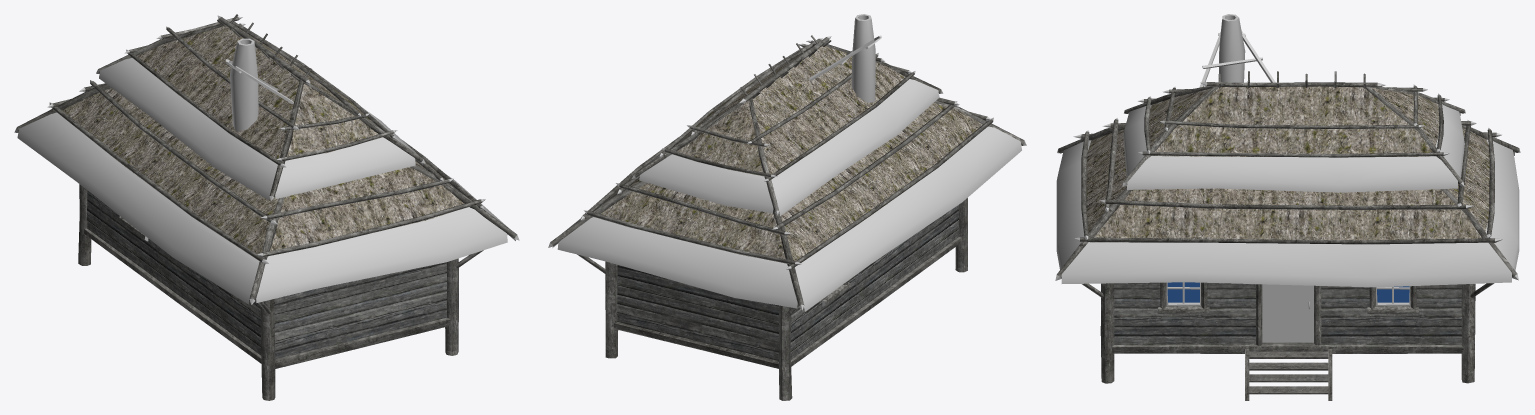
The model's file is mw_type_3_cottage_01.FBX.
3 views of the same model, side by side, from view 1: azimuth 30°, elevation 25°; view 2: azimuth 150°, elevation 25°; view 3: azimuth 270°, elevation 25° (orthographic). The views are drawn at different scales.
Parts seen in each view (by area): view 1: mw_type_3_cottage_01_roof, mw_type_3_cottage_01_wood, mw_type_3_cottage_01; view 2: mw_type_3_cottage_01_roof, mw_type_3_cottage_01_wood, mw_type_3_cottage_01; view 3: mw_type_3_cottage_01_roof, mw_type_3_cottage_01_wood, mw_type_3_cottage_01.
Boxes of the visible parts, left/top/right/bottom form: mw_type_3_cottage_01_roof: left=17, top=26, right=515, bottom=304; mw_type_3_cottage_01_wood: left=14, top=14, right=519, bottom=400; mw_type_3_cottage_01: left=229, top=38, right=258, bottom=131; mw_type_3_cottage_01_roof: left=552, top=45, right=1021, bottom=311; mw_type_3_cottage_01_wood: left=548, top=35, right=1026, bottom=400; mw_type_3_cottage_01: left=851, top=14, right=875, bottom=102; mw_type_3_cottage_01_roof: left=1056, top=86, right=1519, bottom=287; mw_type_3_cottage_01_wood: left=1055, top=30, right=1520, bottom=400; mw_type_3_cottage_01: left=1166, top=14, right=1410, bottom=342.
Bounding box in the file's own units: 986 × 1020 × 1459.
